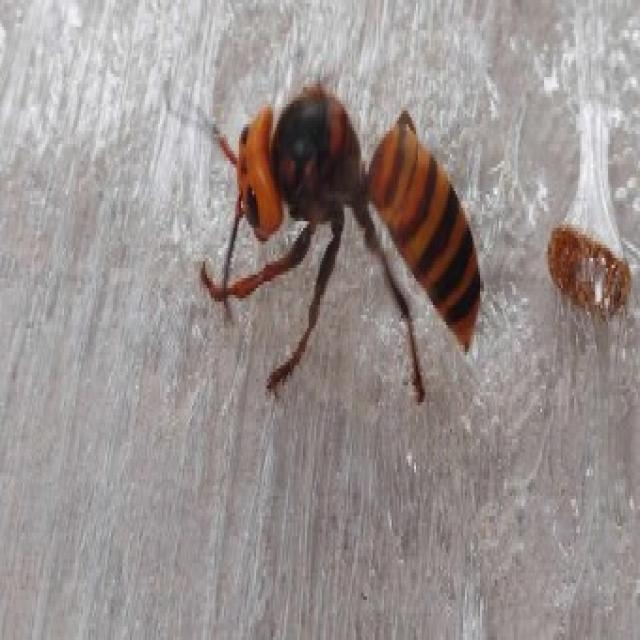Wasp: (175, 64, 483, 420)
